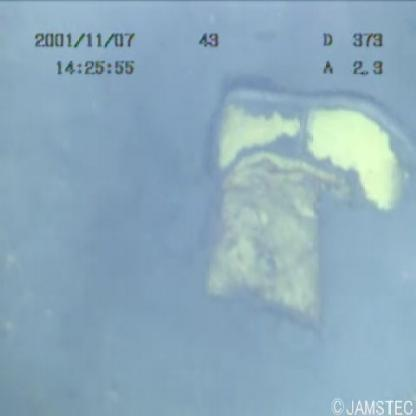Rác: (180, 74, 416, 342)
